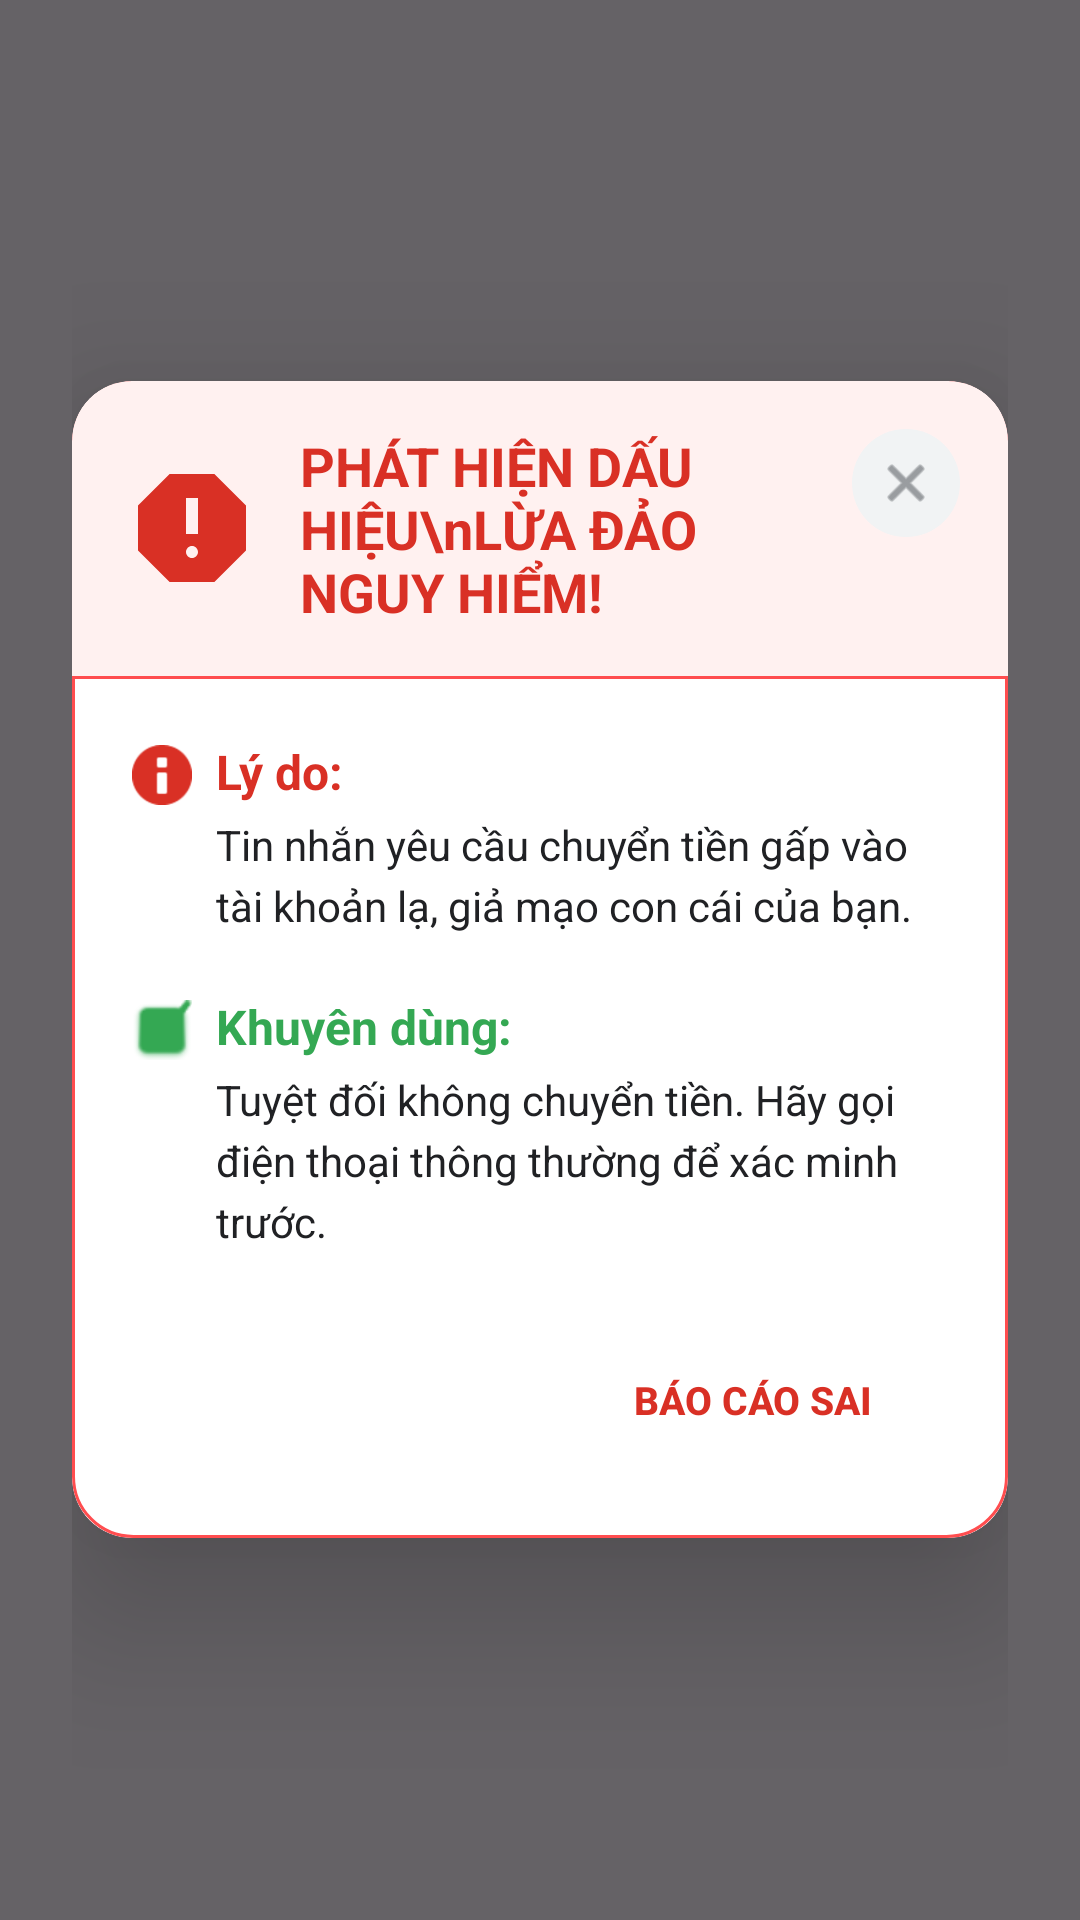

Icon bounding boxes for this 1080 × 1920 phone screenshot, format (x1, y1, x2, y2):
Close: (887, 464, 925, 502)
info: (132, 745, 192, 805)
octagon alert: (138, 474, 246, 582)
